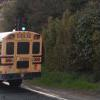Bus: (1, 26, 44, 86)
